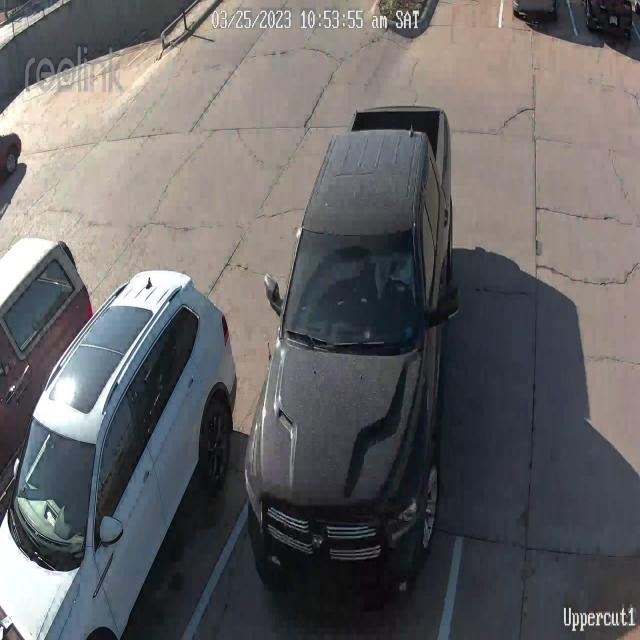Empty-slot: (436, 469, 640, 640), (409, 0, 502, 56)
Slot-Occupied: (245, 111, 459, 631), (0, 272, 236, 640), (0, 240, 94, 515), (584, 0, 638, 60), (516, 0, 572, 40)
